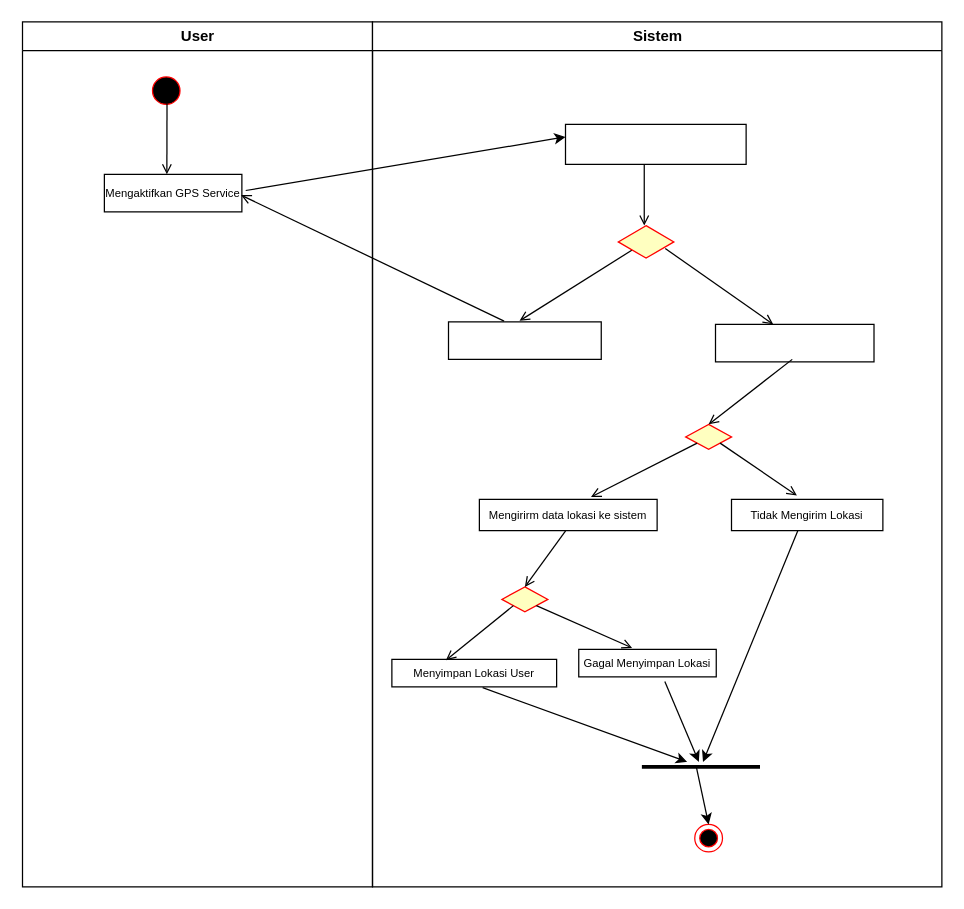
The diagram is 964 pixels wide and 909 high, and some of its shapes have lost their labels. The centre of each missing label's shape, as x and y in pixels:
Lokasi Tidak Tersedia: point 524,340
Memeriksa GPS: point 655,143
Mengirim Permintaan Lokasi: point 794,342
